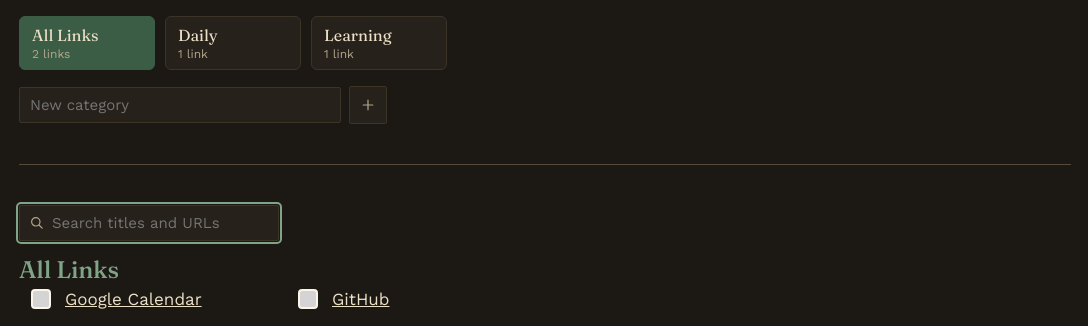
Scenario: UserFavorites: All Links view › clears the search when Escape is pressed
In the search field named "search links": (149, 223) [19,205,279,241], type "calendar"
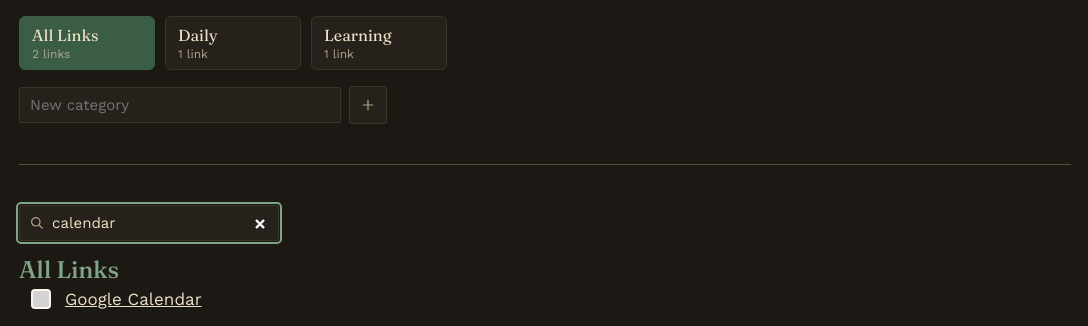
Press Escape
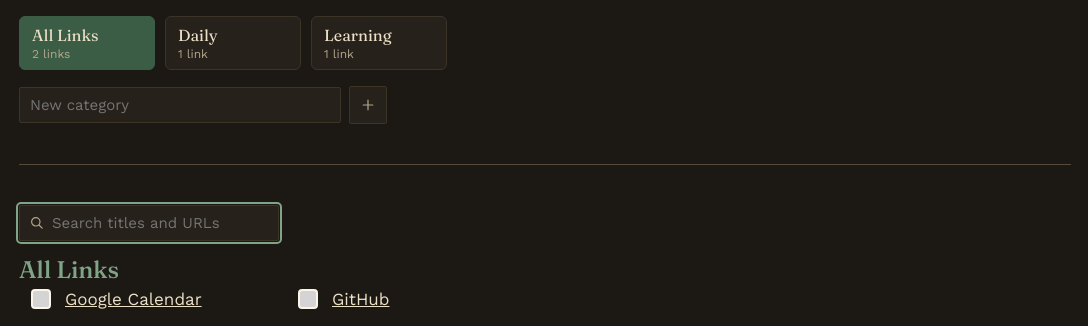
Now the search field named "search links" is empty, box [19,205,279,241]
Now the link "GitHub" is shown, box [332,288,390,308]
